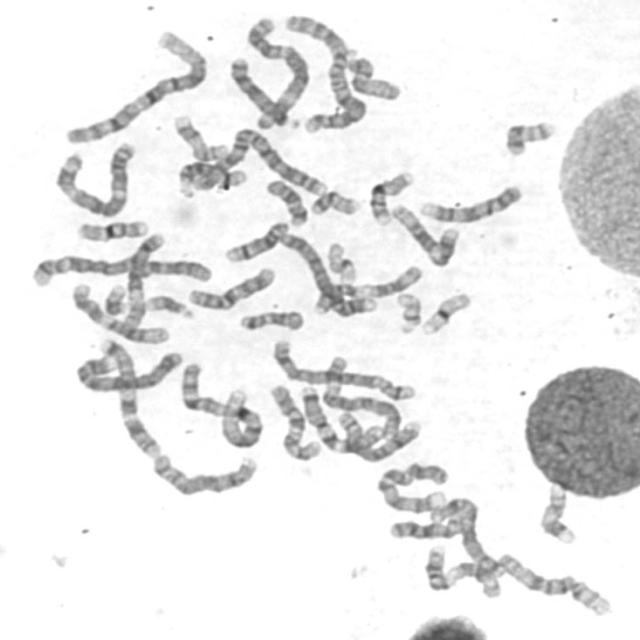A1: (60, 24, 210, 147), (176, 355, 266, 450)
A2: (180, 122, 329, 197), (280, 9, 368, 134)
A3: (242, 11, 312, 132), (49, 136, 137, 220)
B4: (275, 227, 379, 318), (71, 346, 186, 394)
B5: (268, 334, 420, 402), (29, 230, 165, 290)
C10: (264, 379, 324, 462), (183, 262, 278, 312)
C11: (308, 260, 425, 316), (419, 542, 507, 592)
C12: (66, 279, 172, 345), (387, 199, 461, 268)
C6: (320, 353, 404, 440), (119, 256, 215, 330)
C7: (93, 333, 163, 459), (296, 382, 388, 454)
C8: (147, 448, 260, 498), (333, 407, 424, 463)
C9: (414, 180, 526, 225), (372, 460, 450, 516)
D13: (225, 53, 302, 130), (385, 514, 469, 541)
D14: (220, 217, 292, 264), (173, 160, 250, 200)
D15: (494, 552, 576, 597), (342, 49, 404, 102)
E16: (365, 166, 416, 227), (72, 215, 150, 243)
E17: (168, 110, 230, 163), (535, 482, 579, 546)
E18: (260, 173, 310, 227), (235, 305, 306, 333)
F19: (417, 287, 474, 337), (323, 238, 359, 283)
F20: (499, 115, 558, 158), (306, 186, 362, 218)
G21: (140, 290, 196, 321), (100, 279, 129, 318)
G22: (567, 580, 613, 618), (391, 287, 424, 336)
X: (426, 495, 509, 601)
